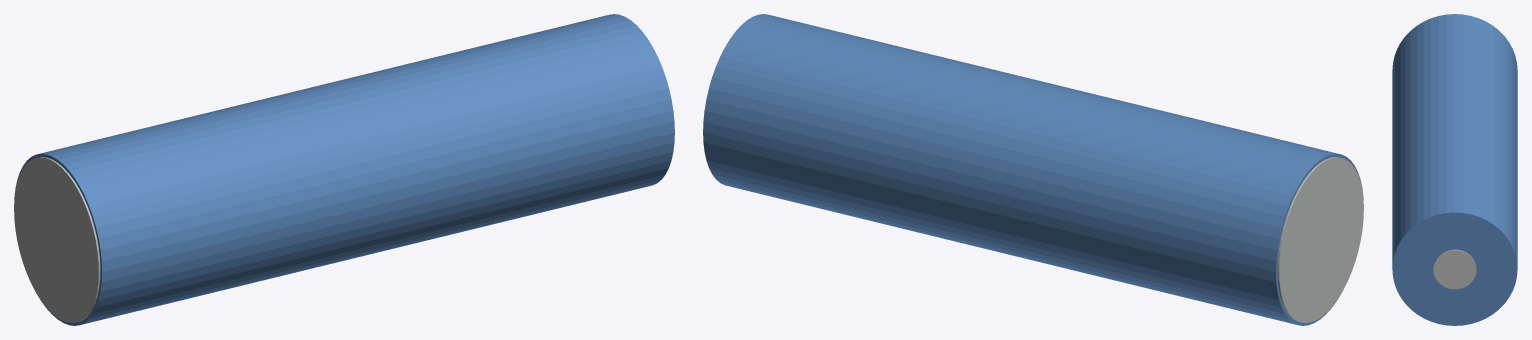
3 renders of one model, left to right at view 1: azimuth 30°, elevation 25°; view 2: azimuth 150°, elevation 25°; view 3: azimuth 270°, elevation 25°, orthographic. The views are drawn at different scales.
Visible parts, largest first — view 1: c0, c1; view 2: c0, c1; view 3: c0, c1.
Part boxes in pixels (box(x1,y1,x2,y2)): c0: box(14, 14, 674, 325); c1: box(14, 157, 100, 322); c0: box(703, 14, 1363, 325); c1: box(1277, 157, 1363, 322); c0: box(1392, 14, 1517, 325); c1: box(1433, 249, 1476, 289).
Bounding box in the file's own units: 70 × 18.54 × 18.54.
